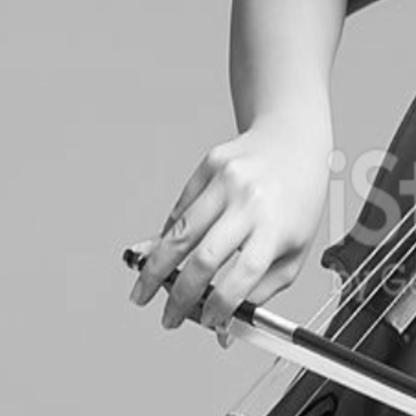bad: (124, 109, 323, 344)
